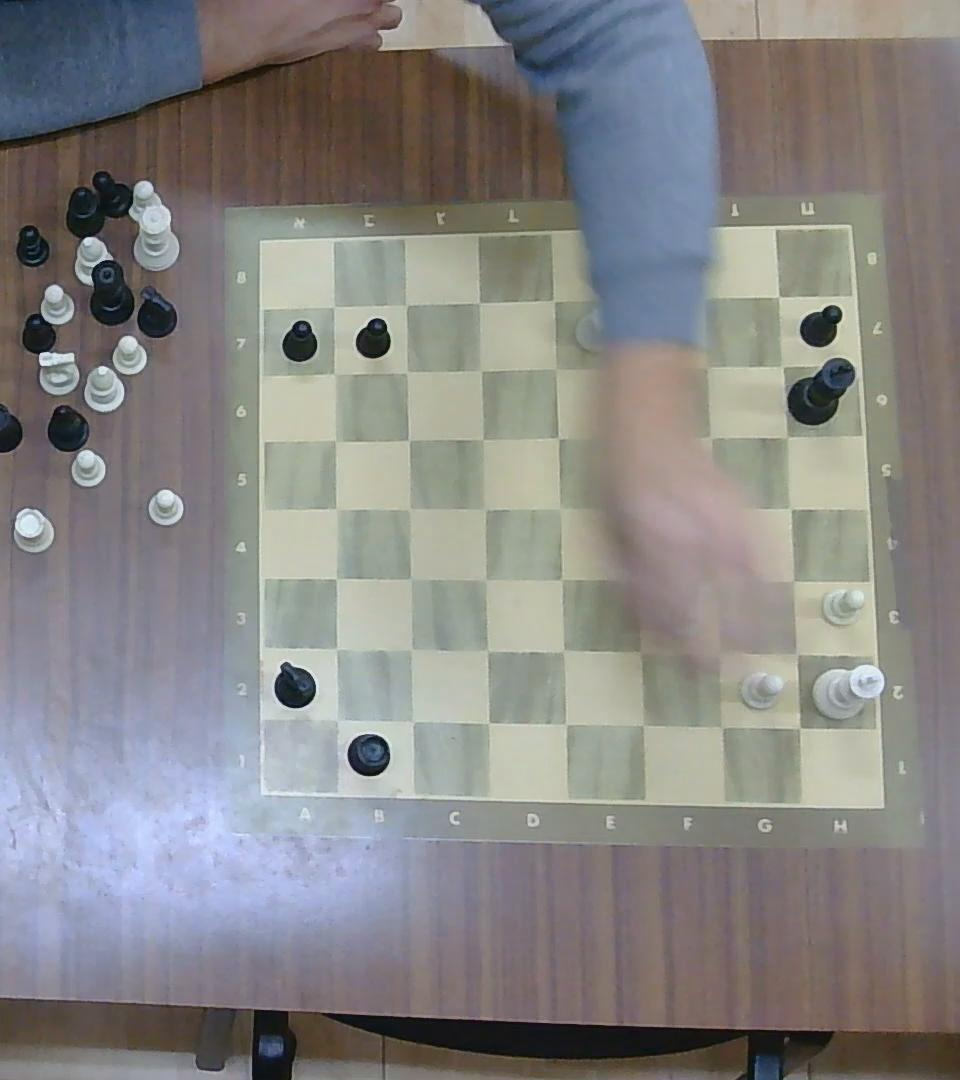xcorner: (780, 636, 813, 669), (703, 636, 735, 669), (548, 706, 580, 738), (626, 707, 658, 739), (783, 711, 814, 743), (705, 709, 736, 741), (470, 563, 501, 594), (321, 703, 352, 734), (472, 706, 502, 737), (548, 634, 578, 665), (625, 636, 656, 666), (777, 565, 808, 595), (621, 492, 651, 523), (471, 636, 501, 666), (397, 705, 427, 735), (704, 565, 734, 595), (548, 563, 577, 594), (395, 635, 425, 664), (321, 563, 350, 593), (688, 282, 718, 311), (470, 493, 499, 522), (777, 493, 806, 522), (540, 285, 568, 315), (619, 423, 647, 453), (321, 426, 350, 454), (395, 493, 423, 522), (547, 493, 575, 522), (623, 562, 651, 591), (608, 283, 635, 313), (323, 495, 351, 523), (467, 424, 495, 452), (396, 564, 424, 592), (322, 635, 350, 663), (393, 425, 422, 452), (543, 354, 571, 381), (320, 293, 348, 320), (465, 288, 493, 315), (769, 352, 797, 379), (702, 493, 728, 522), (693, 352, 720, 379), (616, 352, 642, 380), (546, 423, 572, 450), (773, 421, 799, 448), (467, 354, 493, 381), (699, 423, 725, 450), (321, 360, 349, 385), (393, 358, 419, 383), (766, 284, 791, 309), (393, 291, 419, 315)
